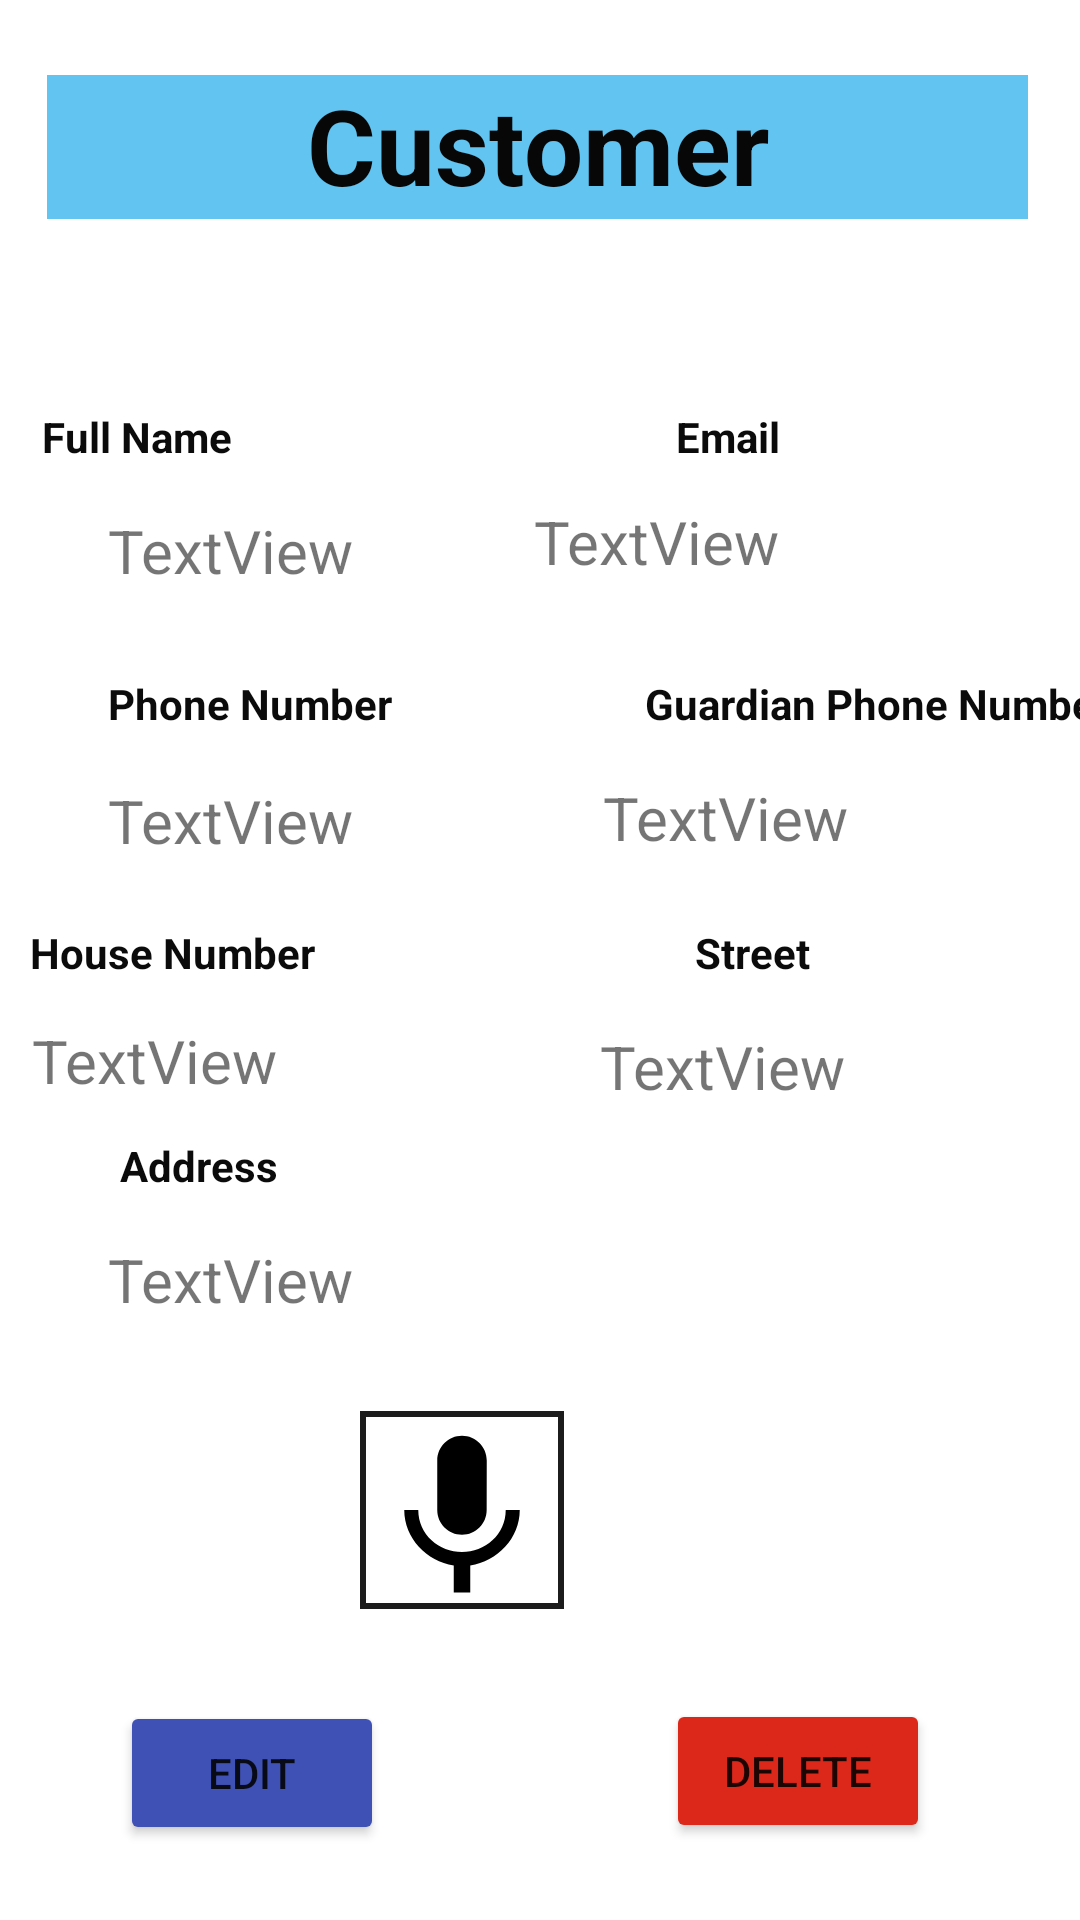

Named icons in this screenshot (1080px×1920px) and their centers, [x,y]:
keyboard voice: [462,1510]
